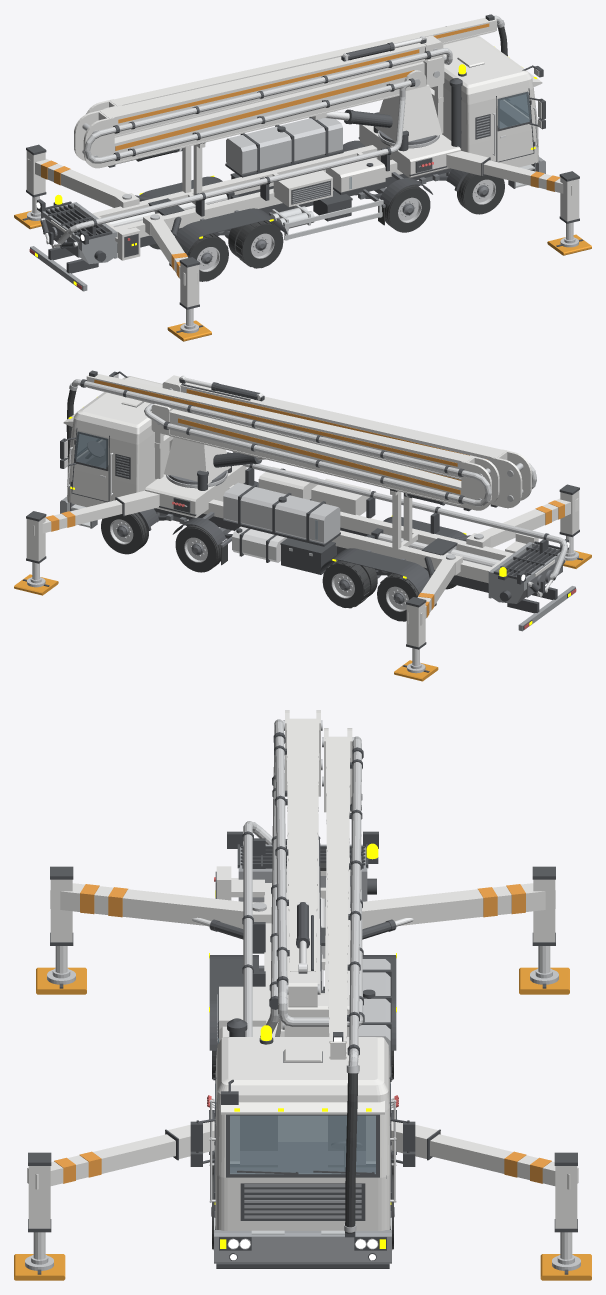
Rendered from Concrete_Boom_Pump_38m.glb.
3 renders of one model, top to bottom at view 1: azimuth 30°, elevation 25°; view 2: azimuth 150°, elevation 25°; view 3: azimuth 270°, elevation 25°, orthographic. The views are drawn at different scales.
Parts seen in each view (by area): view 1: body, tie_rods, delivery_line, wheel_nuts, tyres, boom_stripes, grey_trim, wheel_hubs, cab_chrome, step_treads, wheel_rims, outrigger_pads (+1 smaller); view 2: body, tie_rods, delivery_line, wheel_nuts, tyres, boom_stripes, cab_chrome, grey_trim, wheel_hubs, wheel_rims, outrigger_pads, glass; view 3: body, tie_rods, delivery_line, grey_trim, glass, wheel_hubs, wheel_nuts, outrigger_pads, boom_stripes, cab_chrome, tyres.
Part boxes in pixels (x1=…): body: x1=26, y1=17, x2=579, y2=307; tie_rods: x1=22, y1=14, x2=583, y2=332; delivery_line: x1=57, y1=15, x2=502, y2=244; wheel_nuts: x1=27, y1=20, x2=578, y2=333; tyres: x1=149, y1=26, x2=507, y2=281; boom_stripes: x1=41, y1=23, x2=560, y2=277; grey_trim: x1=30, y1=115, x2=545, y2=291; wheel_hubs: x1=43, y1=100, x2=535, y2=264; cab_chrome: x1=32, y1=35, x2=573, y2=326; step_treads: x1=154, y1=164, x2=534, y2=240; wheel_rims: x1=197, y1=179, x2=495, y2=271; outrigger_pads: x1=14, y1=210, x2=591, y2=341; body: x1=26, y1=374, x2=579, y2=647; tie_rods: x1=22, y1=370, x2=583, y2=672; delivery_line: x1=71, y1=379, x2=567, y2=579; wheel_nuts: x1=27, y1=383, x2=578, y2=673; tyres: x1=66, y1=390, x2=456, y2=621; boom_stripes: x1=45, y1=379, x2=564, y2=617; cab_chrome: x1=32, y1=374, x2=573, y2=665; grey_trim: x1=60, y1=455, x2=575, y2=631; wheel_hubs: x1=70, y1=440, x2=562, y2=603; wheel_rims: x1=110, y1=519, x2=408, y2=611; outrigger_pads: x1=14, y1=550, x2=591, y2=681; glass: x1=74, y1=432, x2=317, y2=539; body: x1=27, y1=710, x2=578, y2=1230; tie_rods: x1=28, y1=732, x2=577, y2=1274; delivery_line: x1=243, y1=719, x2=363, y2=1066; grey_trim: x1=214, y1=844, x2=391, y2=1263; glass: x1=215, y1=1038, x2=390, y2=1174; wheel_hubs: x1=211, y1=965, x2=394, y2=1229; wheel_nuts: x1=25, y1=720, x2=580, y2=1270; outrigger_pads: x1=14, y1=967, x2=591, y2=1280; boom_stripes: x1=54, y1=884, x2=551, y2=1183; cab_chrome: x1=33, y1=897, x2=572, y2=1259; tyres: x1=212, y1=863, x2=393, y2=1249.
Size of the model in its own units: 233 by 78.8 by 158.
